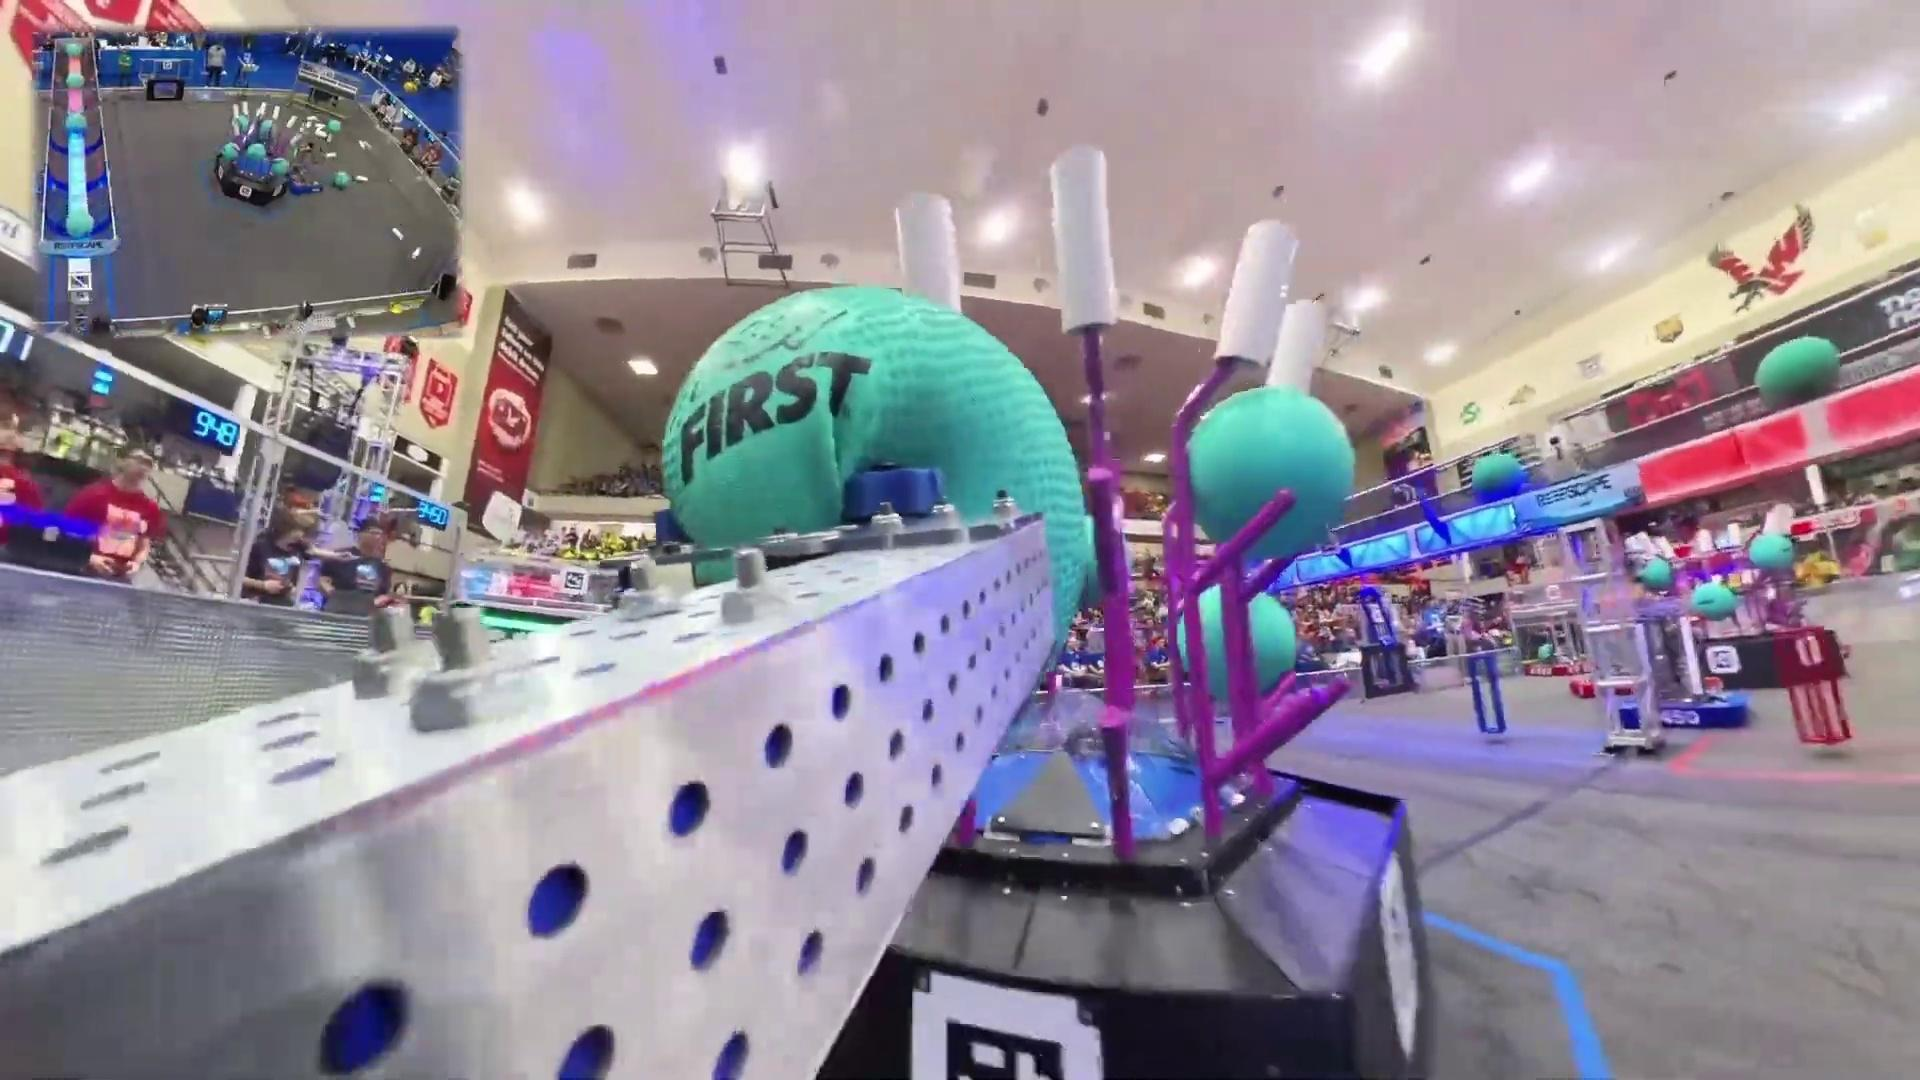robot: (1617, 618, 1751, 732), (1520, 620, 1590, 678), (1571, 662, 1640, 699), (286, 138, 324, 198)
